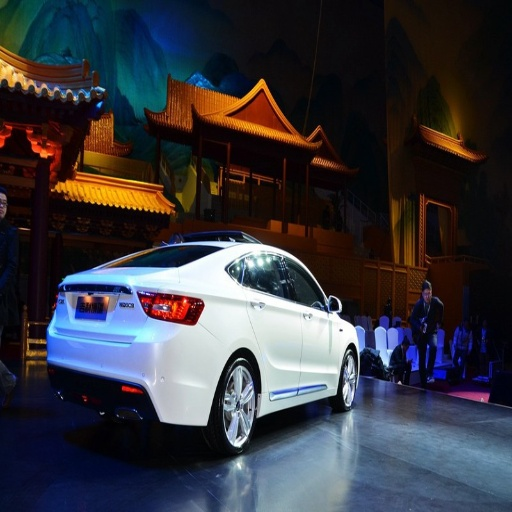back_bumper: (46, 315, 227, 423)
back_right_door: (242, 245, 300, 398)
tailgate: (60, 266, 183, 337)
